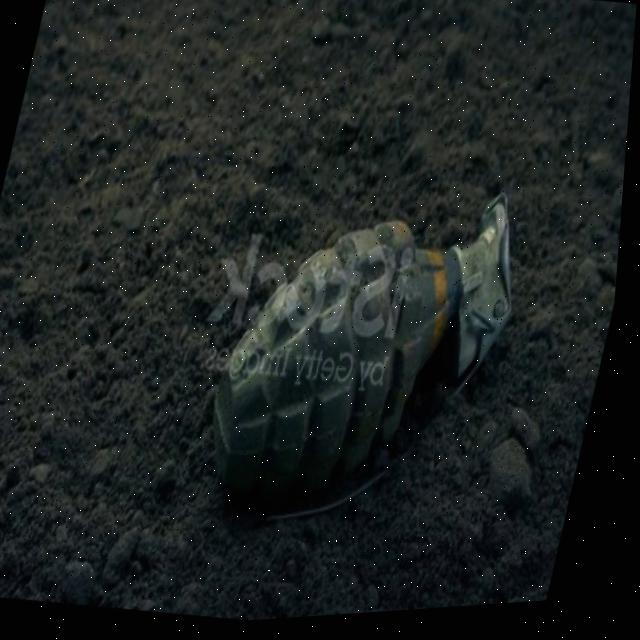grenade: (195, 172, 537, 557)
